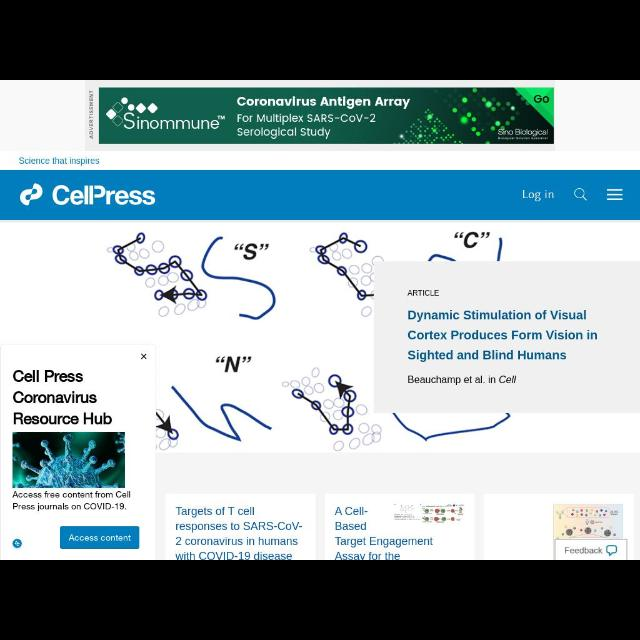backgroundimage: (1, 222, 640, 452)
icon: (606, 188, 624, 200), (574, 188, 588, 202), (606, 544, 616, 556), (141, 353, 147, 359)
iframe: (83, 80, 554, 152), (0, 344, 156, 560)
image: (13, 432, 125, 488), (19, 184, 155, 206), (553, 504, 623, 538), (394, 503, 464, 523), (12, 539, 22, 549)
text: (407, 310, 597, 362), (175, 506, 302, 560), (12, 370, 112, 424), (335, 507, 433, 559), (12, 491, 130, 511), (408, 375, 516, 385), (19, 156, 99, 166), (69, 534, 131, 542), (524, 190, 554, 202), (566, 546, 602, 554), (407, 290, 439, 296)
textbutton: (60, 527, 140, 549)
toolbar: (1, 170, 640, 220)
